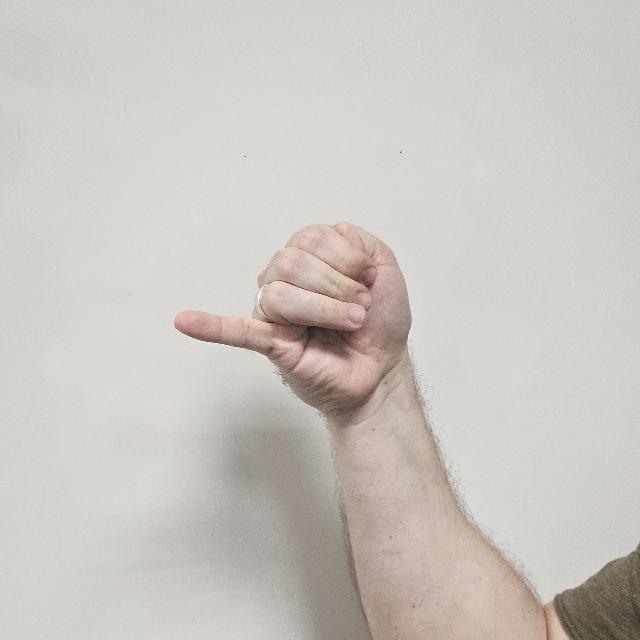Esquerda: (170, 182, 426, 434)
